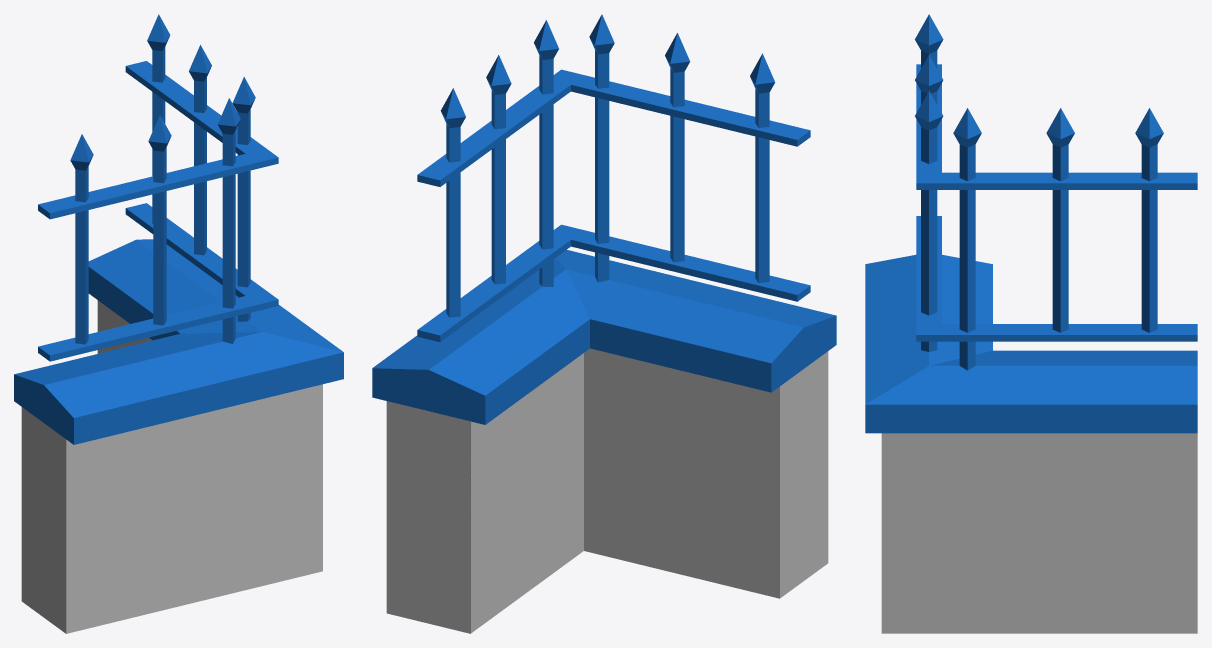
File: SM_fence_1.fbx
3 renders of one model, left to right at view 1: azimuth 30°, elevation 25°; view 2: azimuth 150°, elevation 25°; view 3: azimuth 270°, elevation 25°, orthographic. The views are drawn at different scales.
Visible parts, largest first — view 1: Cloner_4; view 2: Cloner_4; view 3: Cloner_4.
Part boxes in pixels (left/top/right/bottom): Cloner_4: left=14, top=14, right=343, bottom=633; Cloner_4: left=372, top=14, right=836, bottom=633; Cloner_4: left=865, top=14, right=1197, bottom=633.
Size of the model in its own units: 105 by 177 by 105.
